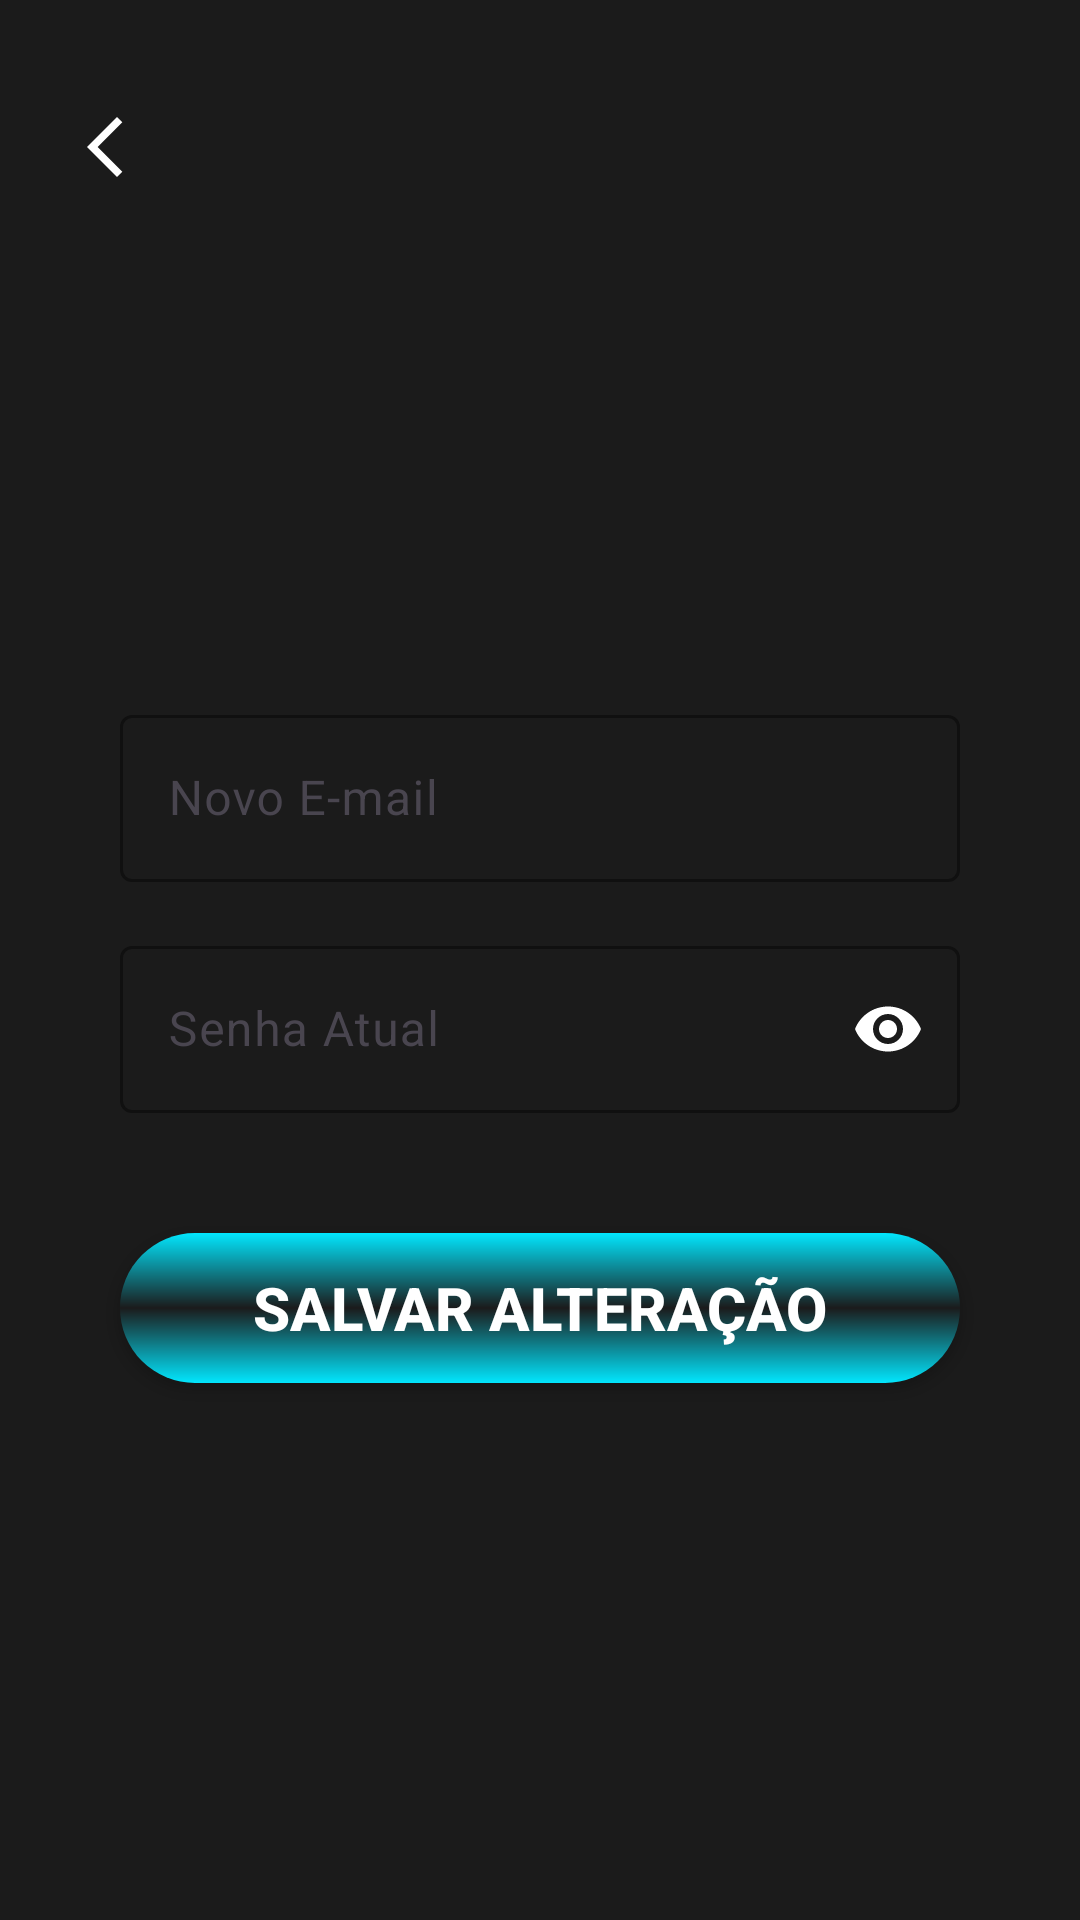

Point at icon controls on the screen. Image size 1080w x 1920h, points as [x,y].
to back: [104,147]
